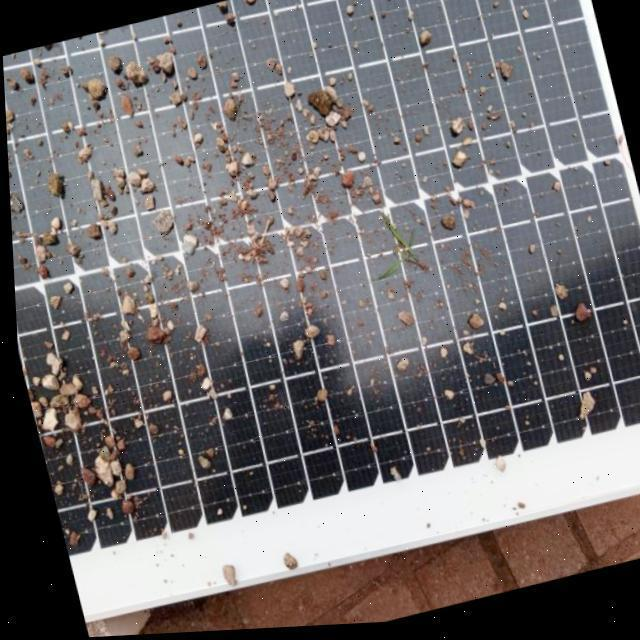Surface Contaminant: (2, 0, 640, 604)
